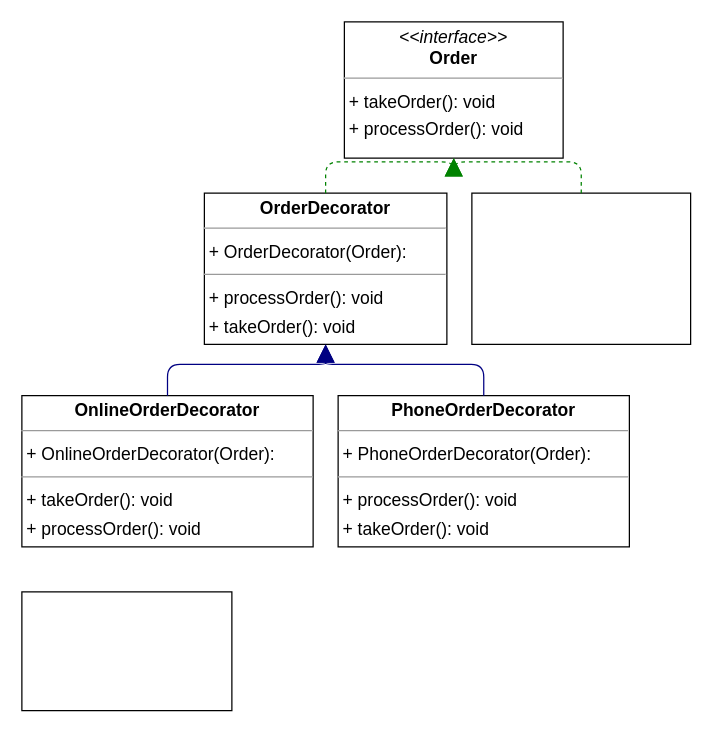
This 713x733 diagram has some shape labels left out. Each missing label, with the centre of its shape:
"Main + Main(): + main(String[]): void" belongs at (126,651).
"SimpleOrder + SimpleOrder(): + processOrder(): void + takeOrder(): void" belongs at (581,268).
